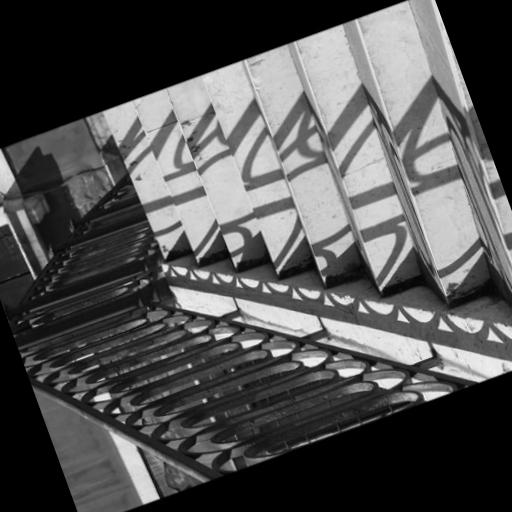stairs: (104, 0, 511, 302)
